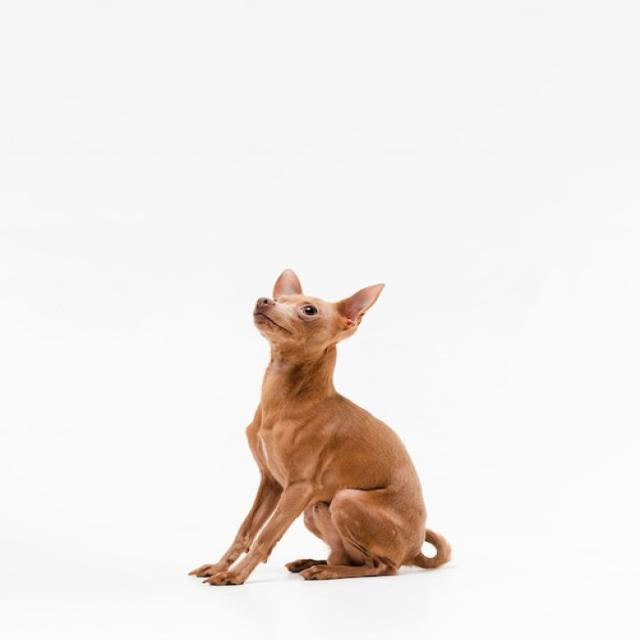Dog: (190, 266, 450, 585)
